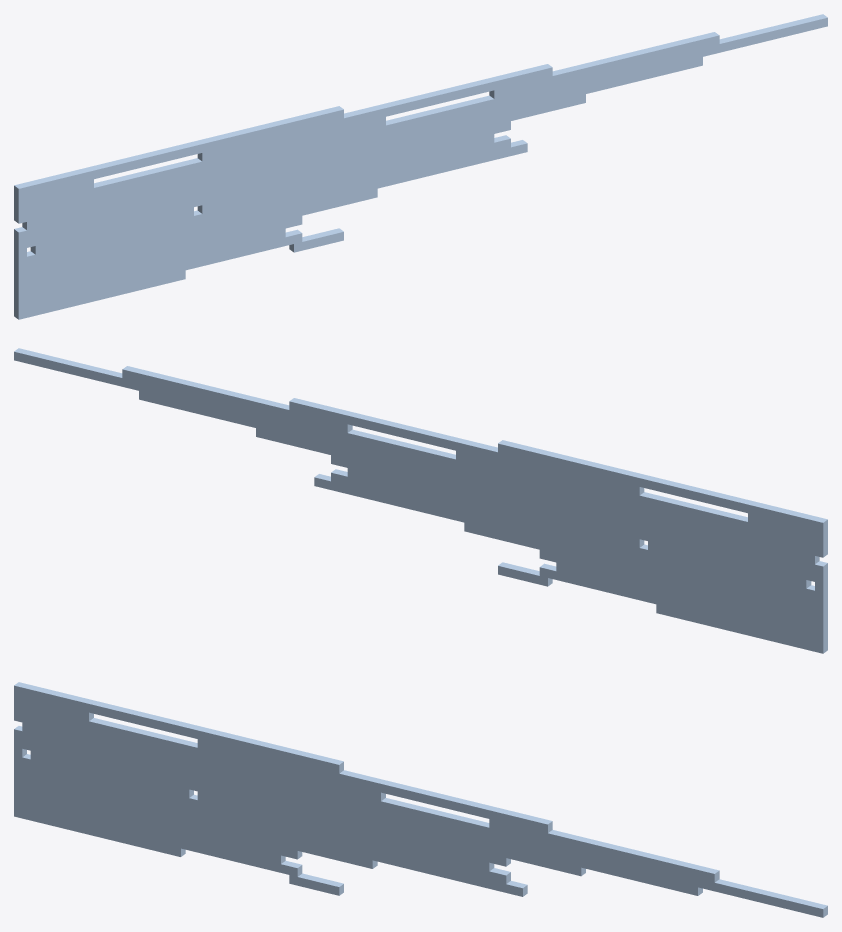
Rendered from Fight_109_2_21_fx.obj.
3 views of the same model, one above another, from view 1: azimuth 30°, elevation 25°; view 2: azimuth 150°, elevation 25°; view 3: azimuth 330°, elevation 25° (orthographic).
Bounding box in the file's own units: 9.7 × 1.5 × 0.1.
1 material, 1 textured.
